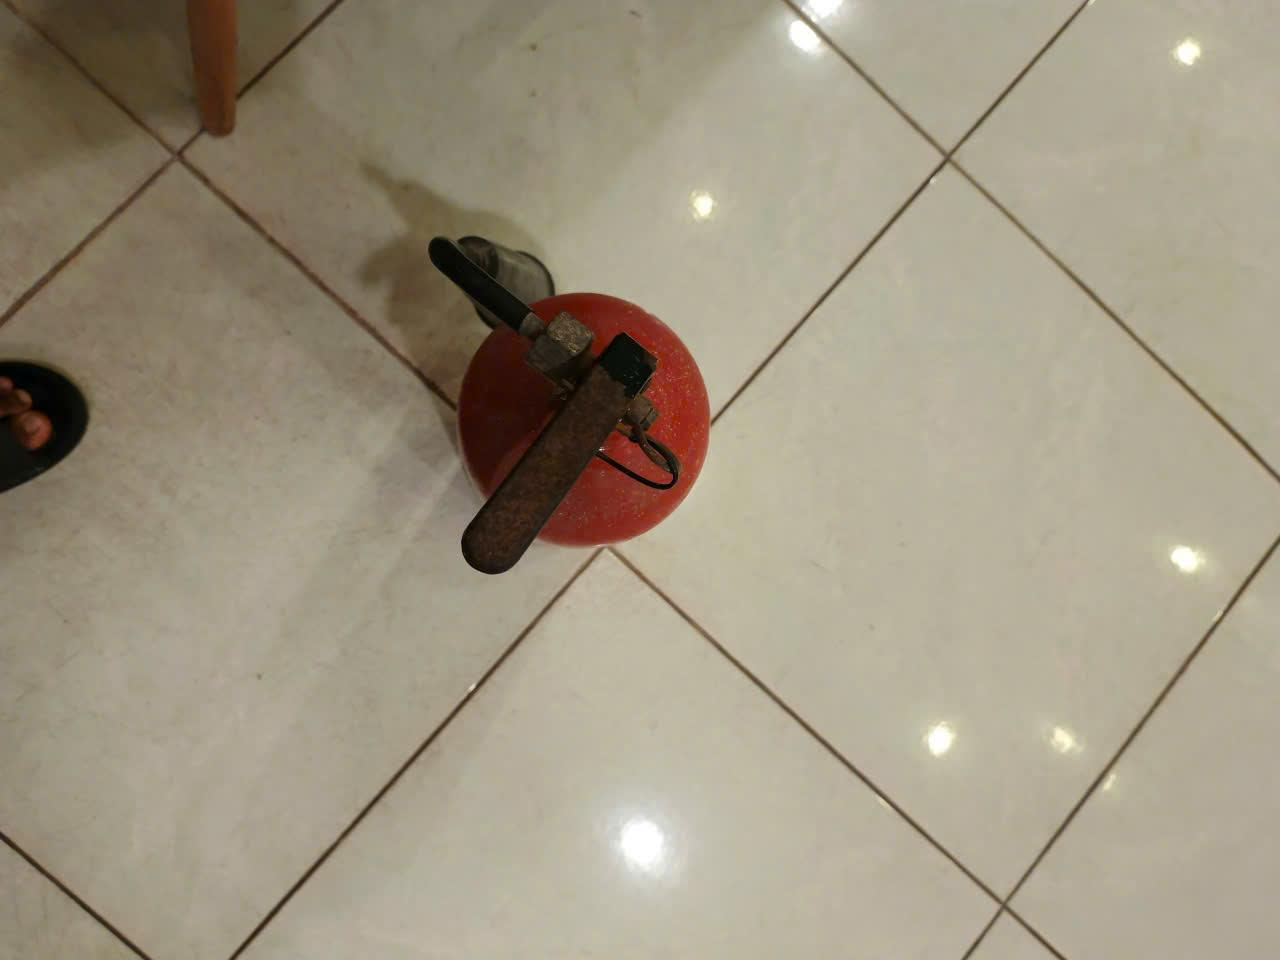Con lai: (428, 228, 715, 578)
